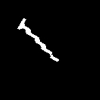half_double_crochet: (18, 19, 58, 60)
